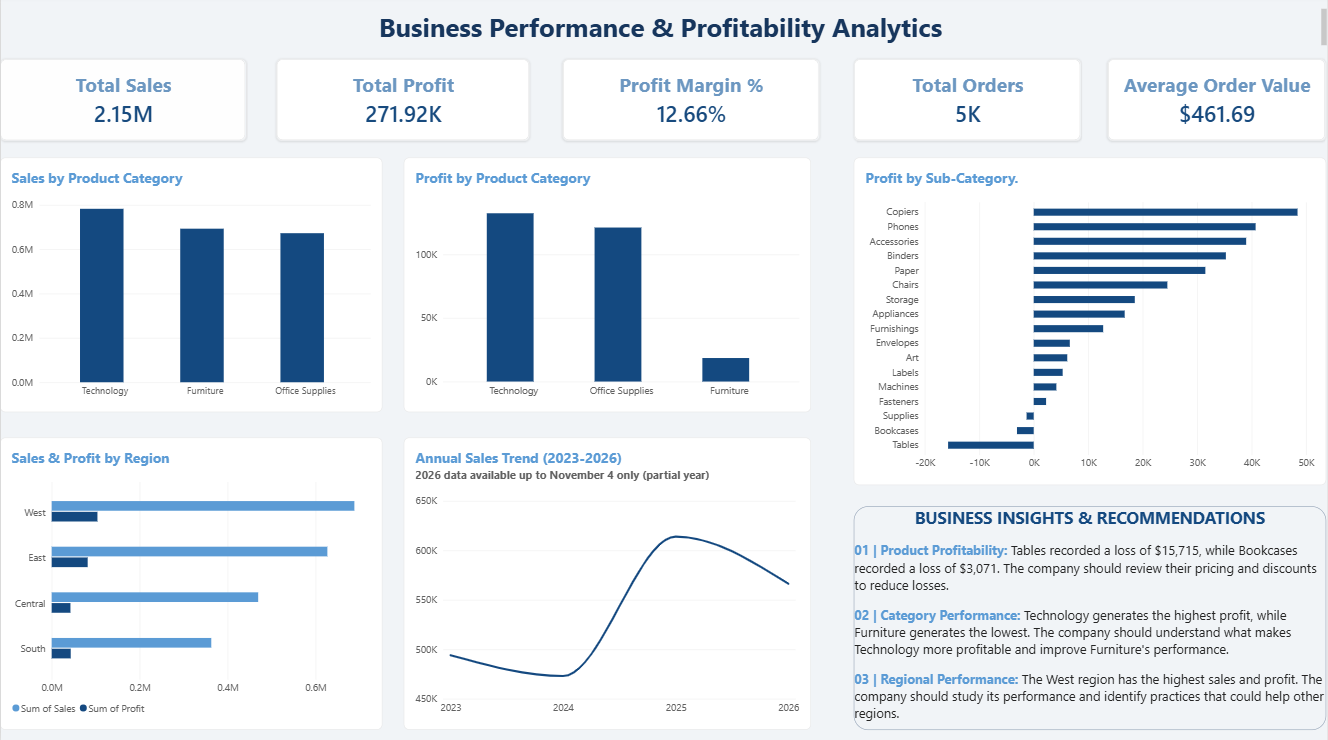

The dashboard page shown, as its layout file describes it:
{"tool":"powerbi","page":{"name":"Page 1","canvas":[1920,1080],"ordinal":0},"visuals":[{"type":"cardVisual","fields":{"Data":["Sum(Orders.Sales)"]},"box":[0,92.3,356.5,119.4],"z":0},{"type":"textbox","box":[0,20.6,1920.4,59.7],"z":1},{"type":"cardVisual","fields":{"Data":["Sum(Orders.Profit)"]},"box":[399.9,92.3,367.4,119.4],"z":2},{"type":"cardVisual","fields":{"Data":["Orders.Profit Margin %"]},"box":[814.3,92.3,372.8,119.4],"z":3},{"type":"cardVisual","fields":{"Data":["Orders.Total Orders"]},"box":[1236,92.3,329.4,119.4],"z":4},{"type":"cardVisual","fields":{"Data":["Orders.Average Order Value"]},"box":[1603.4,92.3,316.7,119.4],"z":5},{"type":"clusteredColumnChart","title":"Sales by Product Category","fields":{"Category":["Orders.Category"],"Y":["Sum(Orders.Sales)"]},"box":[0,235.3,553.8,369.2],"z":6},{"type":"clusteredColumnChart","title":"Profit by Product Category","fields":{"Category":["Orders.Category"],"Y":["Sum(Orders.Profit)"]},"box":[584.5,235.3,589.9,369.2],"z":7},{"type":"clusteredBarChart","title":"Sales & Profit by Region","fields":{"Category":["Orders.Region"],"Y":["Sum(Orders.Sales)","Sum(Orders.Profit)"]},"box":[0,640.6,553.8,423.5],"z":8},{"type":"lineChart","title":"Annual Sales Trend (2023-2026)","fields":{"Category":["Orders.Order Date.Variation.Date Hierarchy.Year","Orders.Order Date.Variation.Date Hierarchy.Quarter","Orders.Order Date.Variation.Date Hierarchy.Month","Orders.Order Date.Variation.Date Hierarchy.Day"],"Y":["Sum(Orders.Sales)"]},"box":[584.5,640.6,589.9,423.5],"z":9},{"type":"clusteredBarChart","title":"Profit by Sub-Category.","fields":{"Category":["Orders.Sub-Category"],"Y":["Sum(Orders.Profit)"]},"box":[1236,235.3,684.1,474.1],"z":10},{"type":"textbox","box":[1236,740.2,684.1,323.9],"z":11}]}

Visuals, with their boxes in screenshot pixels (x1, y1, x2, y2), scaled from the page's 1920x1080 canvas onto the 1328x740 screenshot:
cardVisual - Sum(Orders.Sales): 0, 63, 247, 145
textbox: 0, 14, 1327, 55
cardVisual - Sum(Orders.Profit): 277, 63, 531, 145
cardVisual - Orders.Profit Margin %: 563, 63, 821, 145
cardVisual - Orders.Total Orders: 855, 63, 1083, 145
cardVisual - Orders.Average Order Value: 1109, 63, 1327, 145
"Sales by Product Category" clusteredColumnChart: 0, 161, 383, 414
"Profit by Product Category" clusteredColumnChart: 404, 161, 812, 414
"Sales & Profit by Region" clusteredBarChart: 0, 439, 383, 729
"Annual Sales Trend (2023-2026)" lineChart: 404, 439, 812, 729
"Profit by Sub-Category." clusteredBarChart: 855, 161, 1327, 486
textbox: 855, 507, 1327, 729
